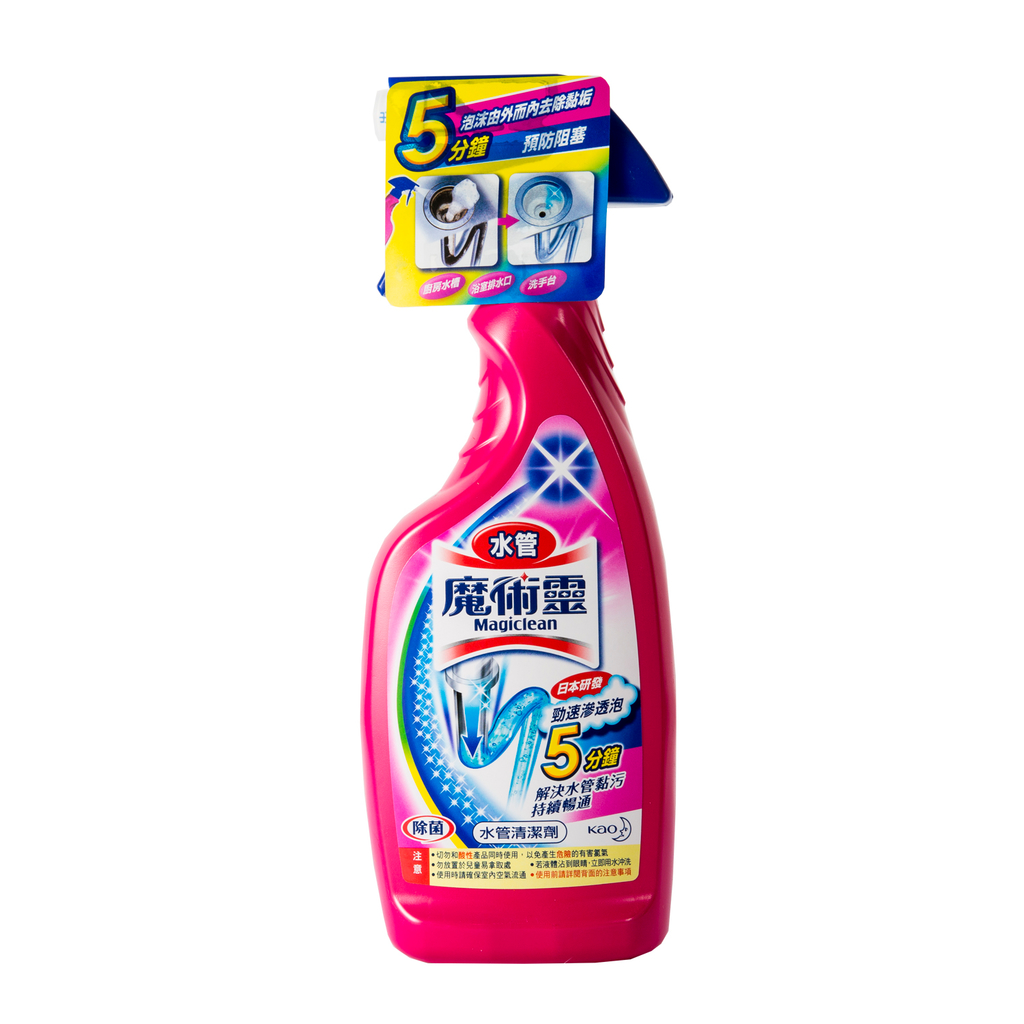cleaner: (321, 66, 686, 972)
